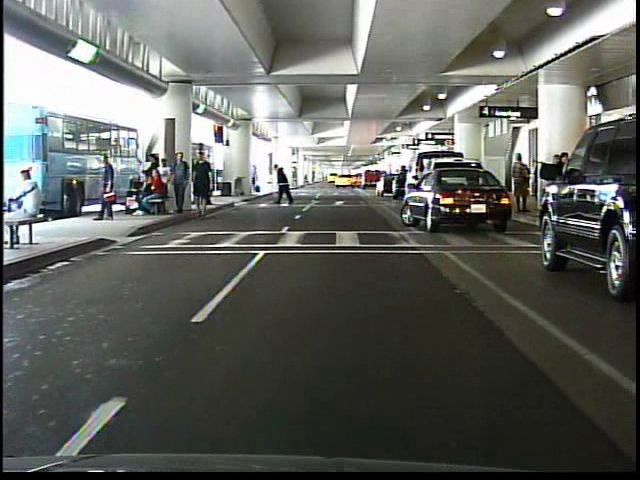person: (10, 163, 47, 248), (92, 148, 122, 227), (511, 150, 530, 215), (276, 162, 300, 208)
